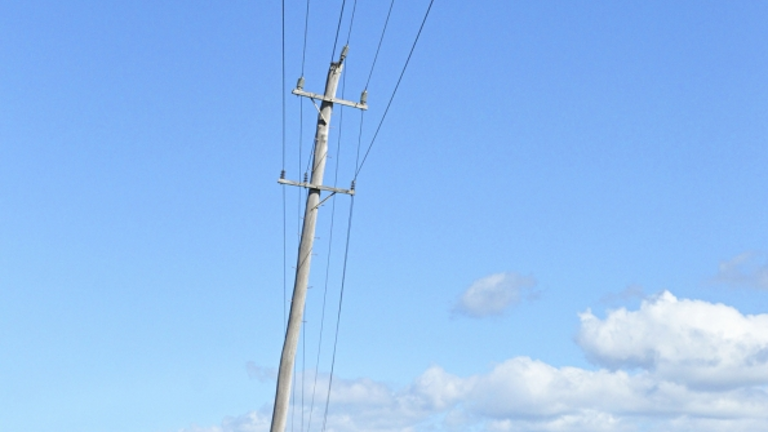utility_pole: (265, 33, 376, 223)
